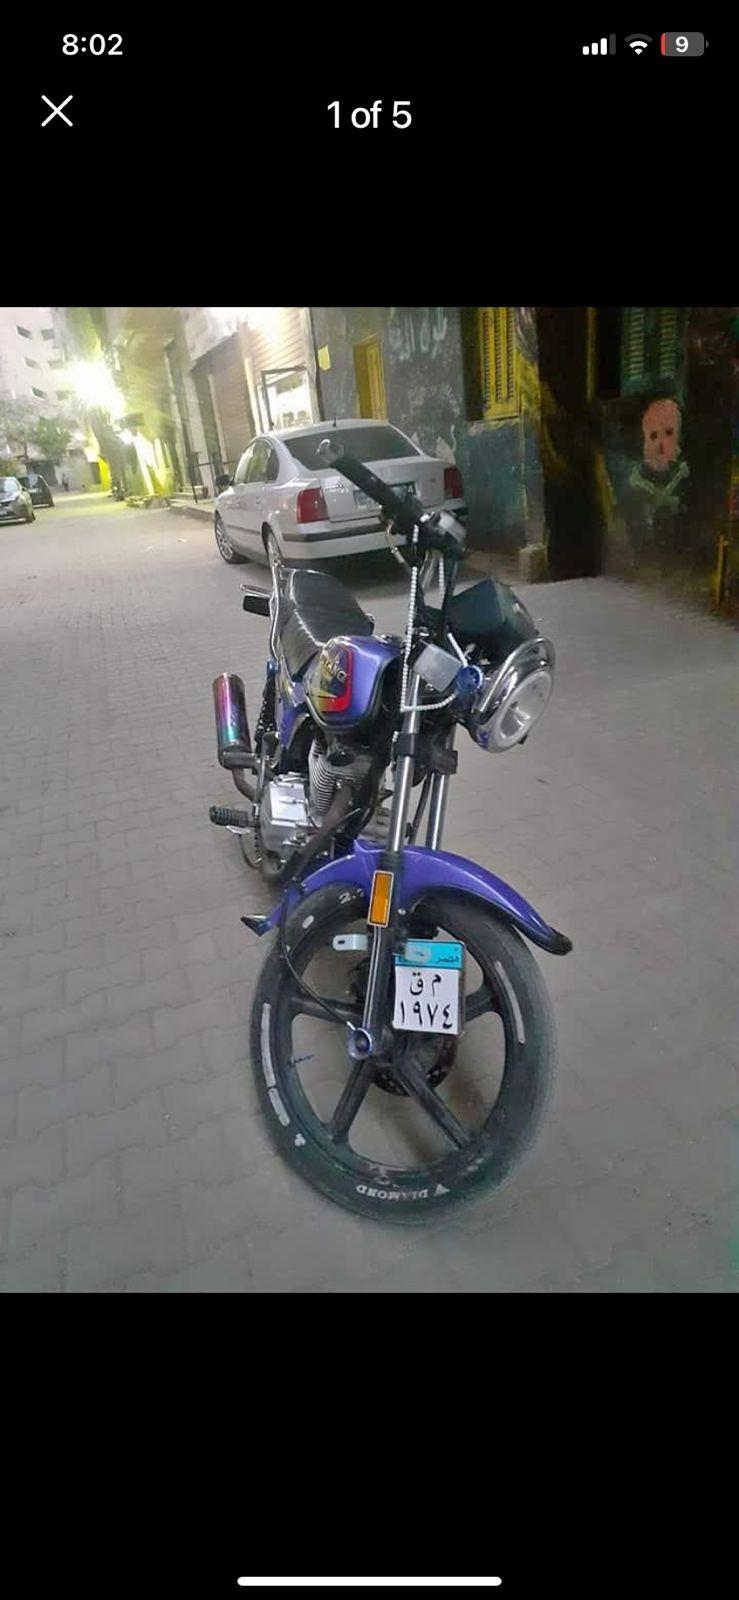License Plate: (395, 935, 463, 1040)
